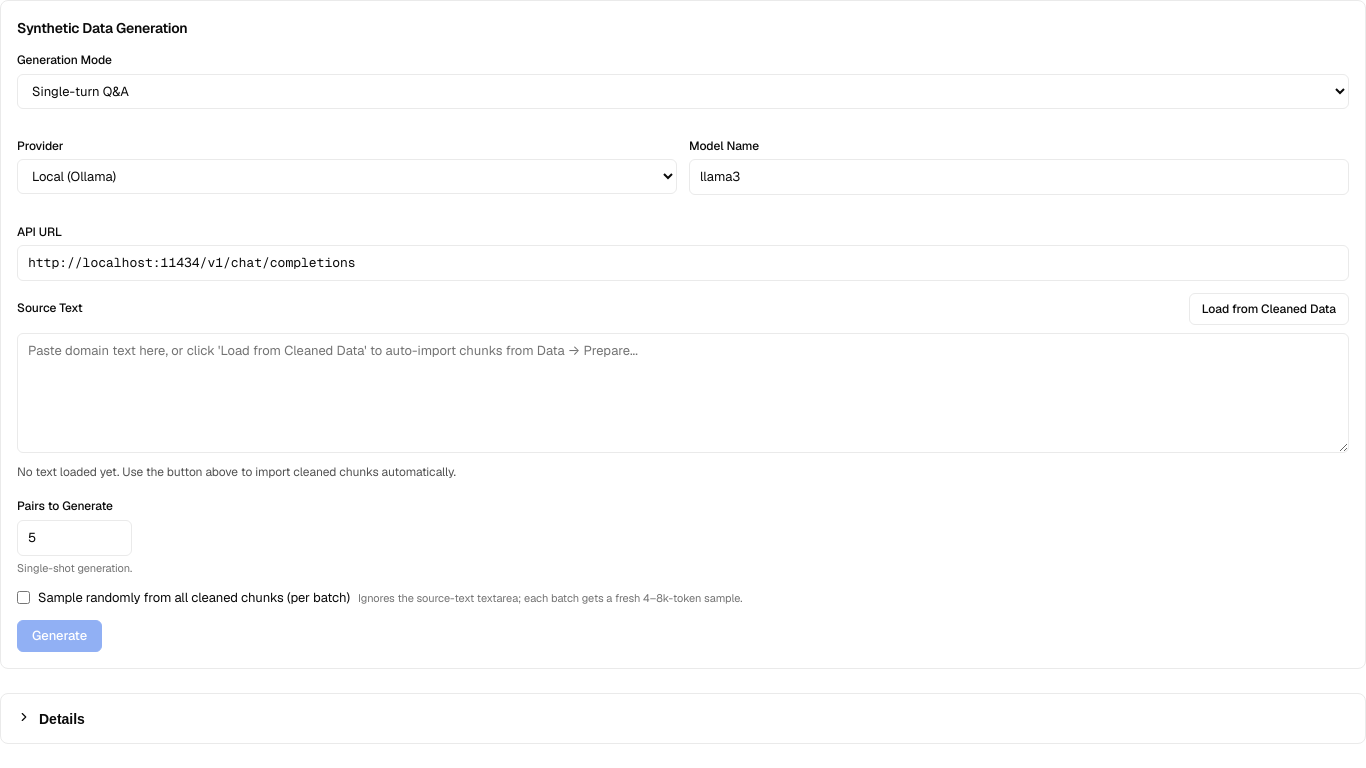
it: SyntheticPanel — QA + Conversation parity (USER-SUCCESS Epic 2c) › lets the Conversation "dialogues" input accept values above 20 and shows the batched hint
Check: the number field with test id "qa-num-pairs" is shown, box [17,520,132,556]
Note: Switch generation mode to conversation.
Select "Multi-turn Conversations" in the dropdown with test id "synth-generation-mode" at point(683, 91), box [17,74,1349,109]
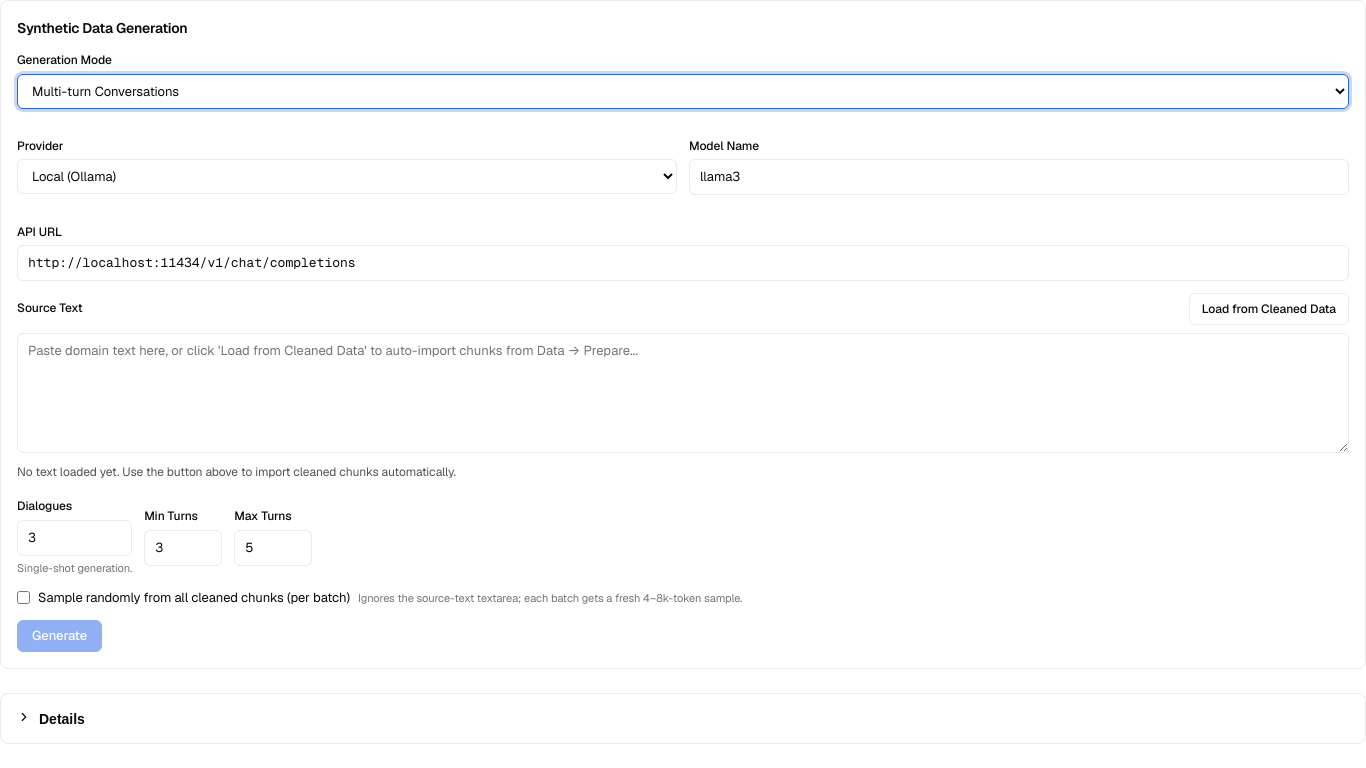
Replace the text in the number field with test id "conversation-num-dialogues" with "50" at point(75, 538), box [17,520,132,556]
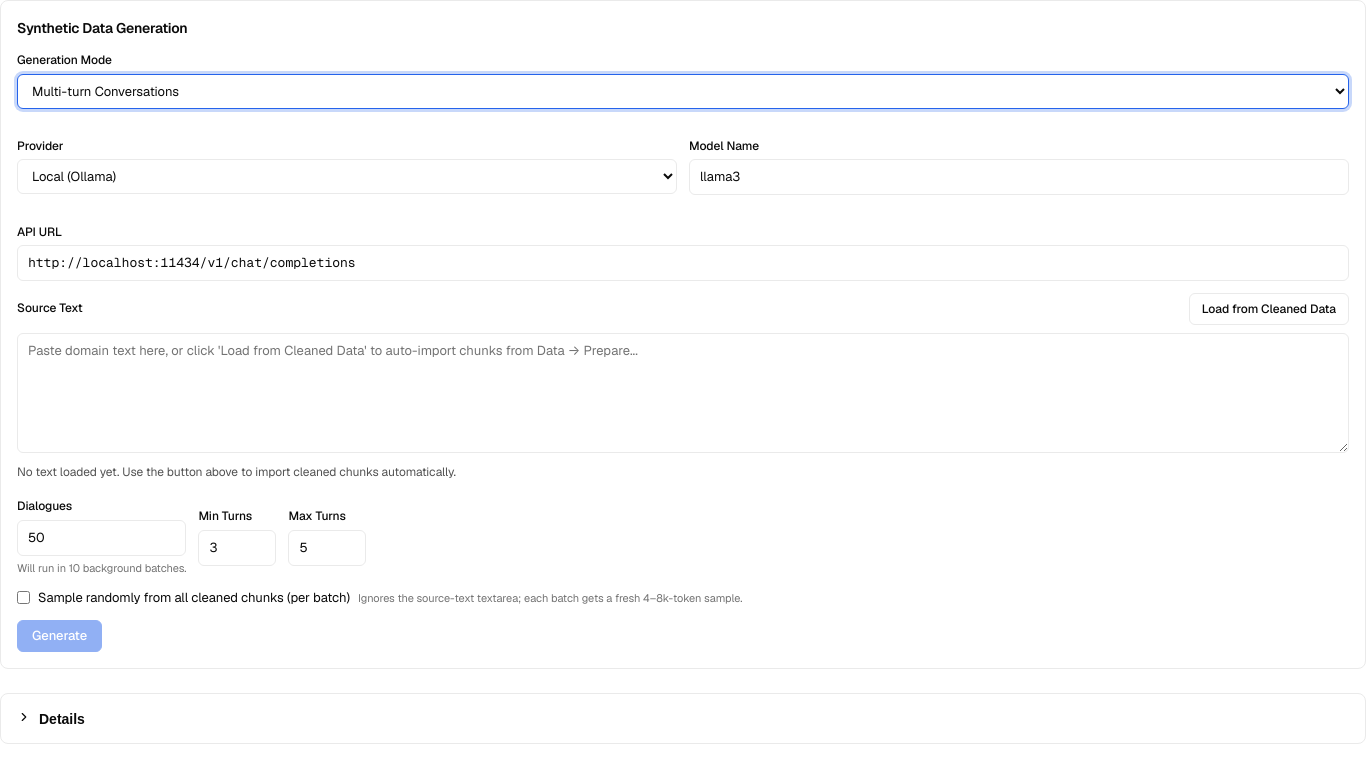
Check: the text "Will run in 10 background batches." is shown, box [17,560,186,576]
